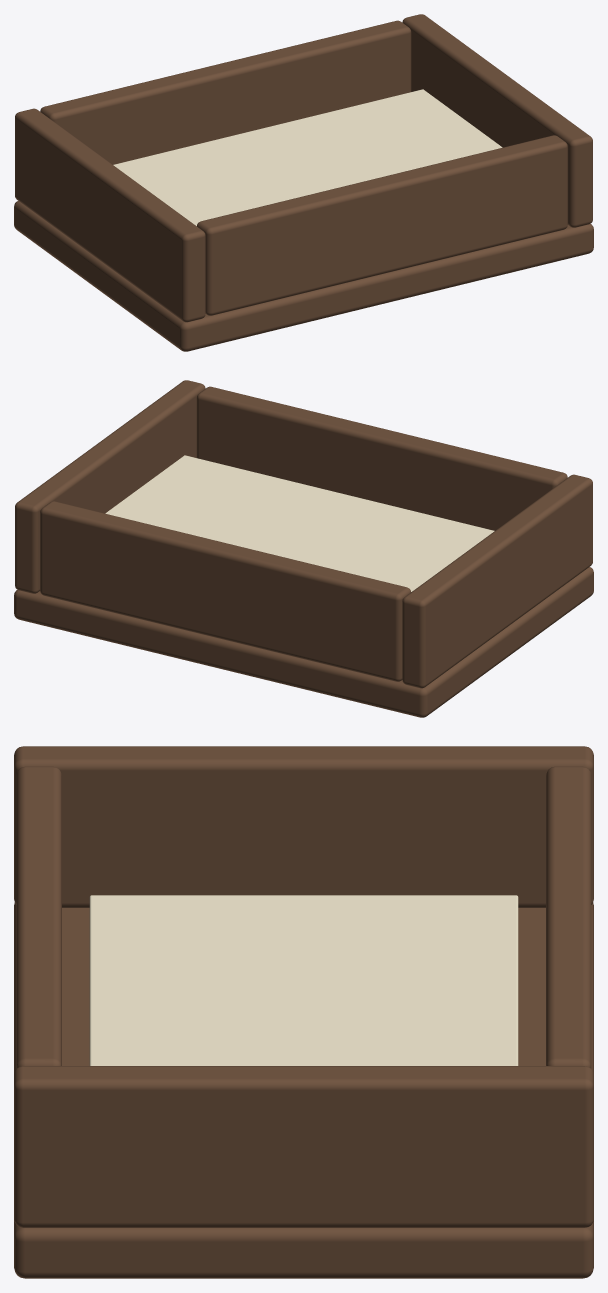
File: abandoned-telephone-exchange-message-slip-tray-4789cfd4__31985.glb
3 renders of one model, top to bottom at view 1: azimuth 30°, elevation 25°; view 2: azimuth 150°, elevation 25°; view 3: azimuth 270°, elevation 25°, orthographic. The views are drawn at different scales.
Visible parts, largest first — view 1: message-slip-tray; view 2: message-slip-tray; view 3: message-slip-tray.
Part boxes in pixels (bbox=[...]): message-slip-tray: bbox=[14, 14, 593, 351]; message-slip-tray: bbox=[14, 380, 593, 717]; message-slip-tray: bbox=[14, 746, 593, 1278].
Bounding box in the file's own units: 0.32 × 0.087 × 0.23.
